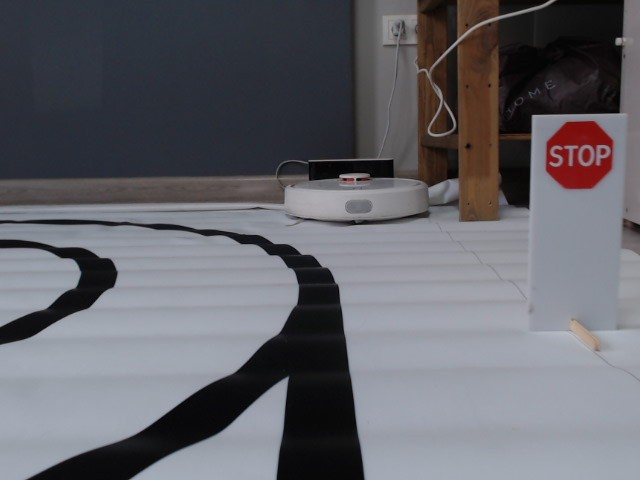Stop: (545, 119, 615, 190)
